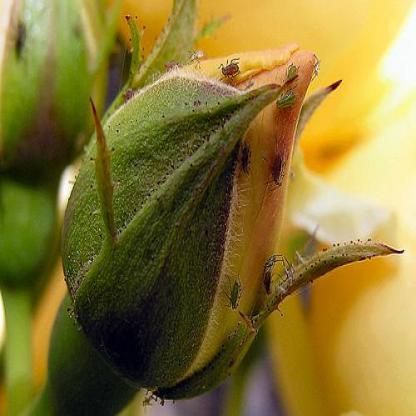aphid: (266, 142, 287, 189), (262, 247, 282, 296), (222, 270, 244, 314), (218, 55, 243, 87), (236, 140, 256, 174), (275, 88, 299, 114), (279, 60, 301, 84), (310, 52, 323, 87), (187, 46, 203, 70), (121, 84, 138, 102)
